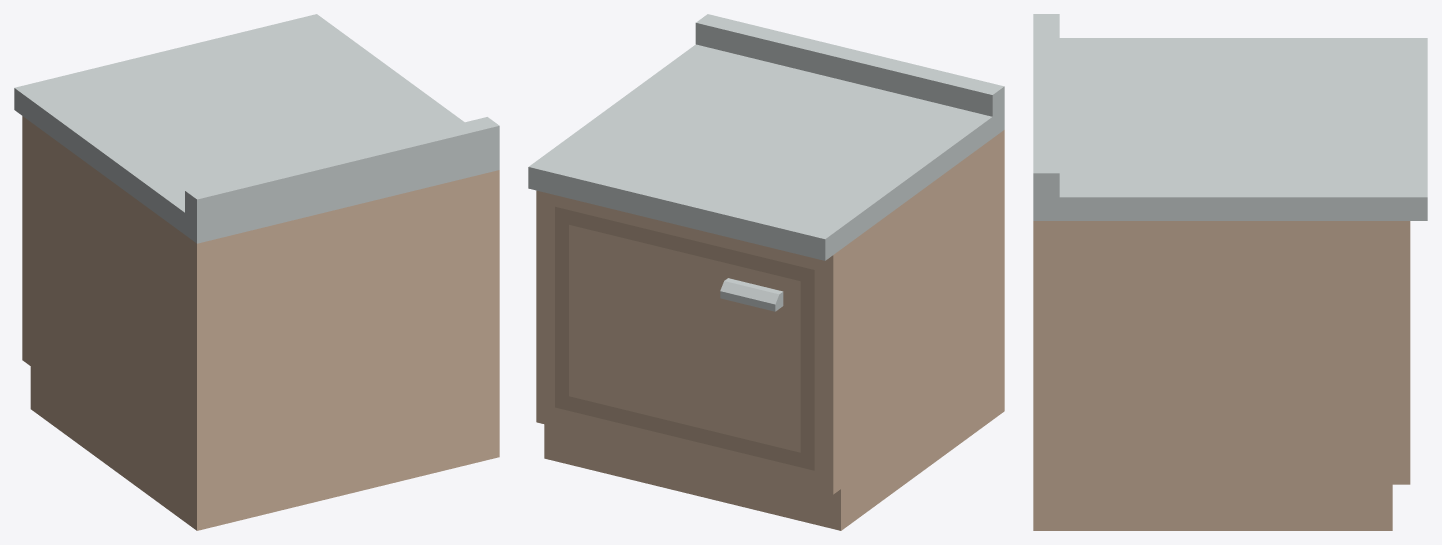
Rendered from kitchen_cabinet.glb.
3 renders of one model, left to right at view 1: azimuth 30°, elevation 25°; view 2: azimuth 150°, elevation 25°; view 3: azimuth 270°, elevation 25°, orthographic. The views are drawn at different scales.
Visible parts, largest first — view 1: kitchenCabinet(Clone); view 2: kitchenCabinet(Clone), door; view 3: kitchenCabinet(Clone).
Part boxes in pixels (x1,y1,x2,y2): kitchenCabinet(Clone): (14, 14, 499, 530); kitchenCabinet(Clone): (528, 14, 1004, 530); door: (555, 206, 814, 470); kitchenCabinet(Clone): (1033, 14, 1427, 530).
Size of the model in its own units: 0.903 by 0.945 by 0.945.
